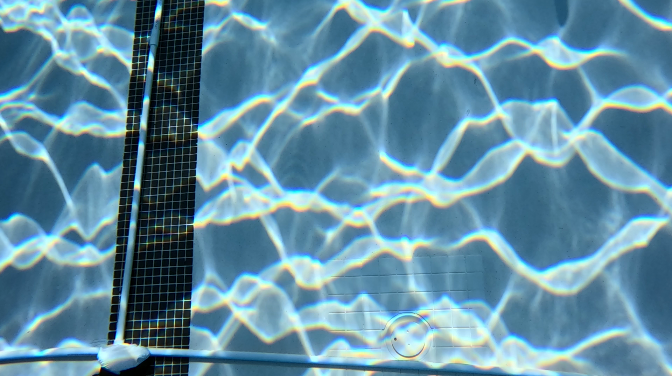sandbag: (95, 345, 151, 373)
